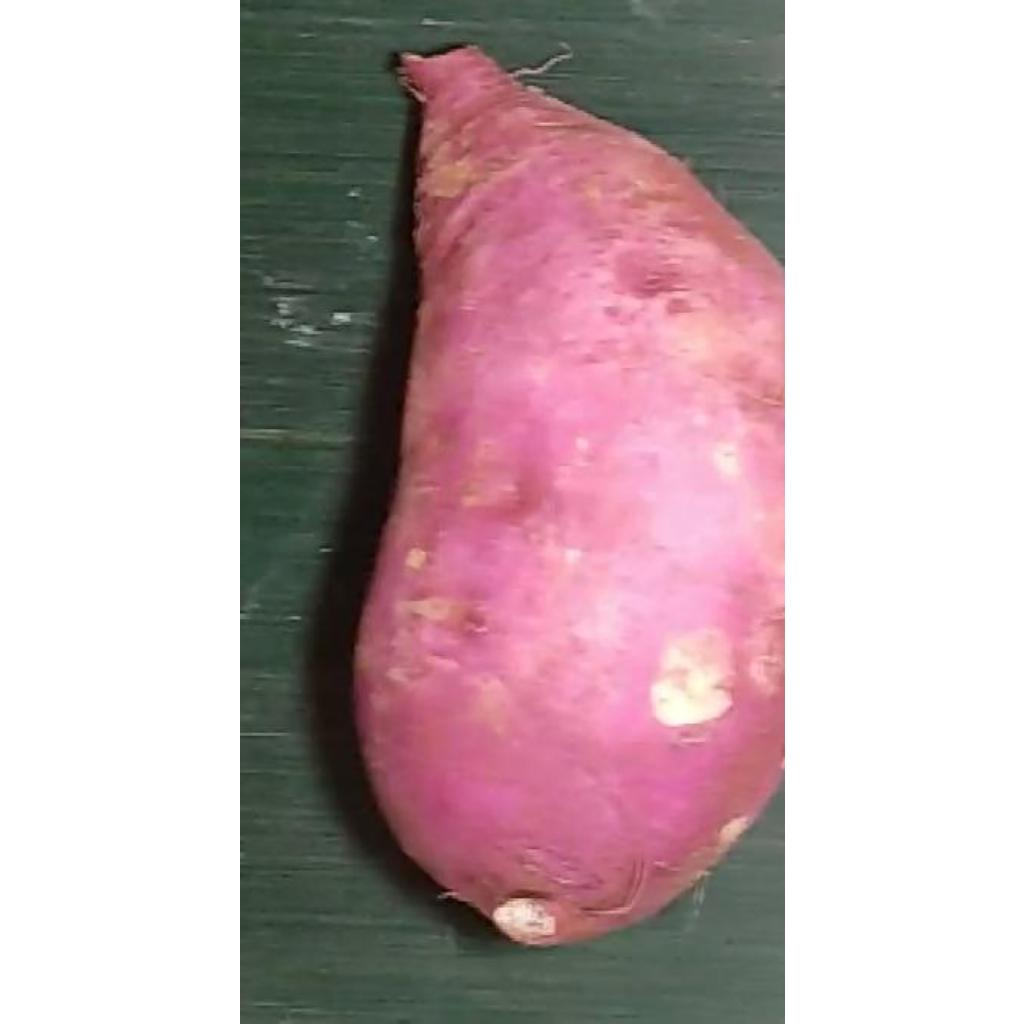Sweet Potato: (352, 48, 777, 947)
